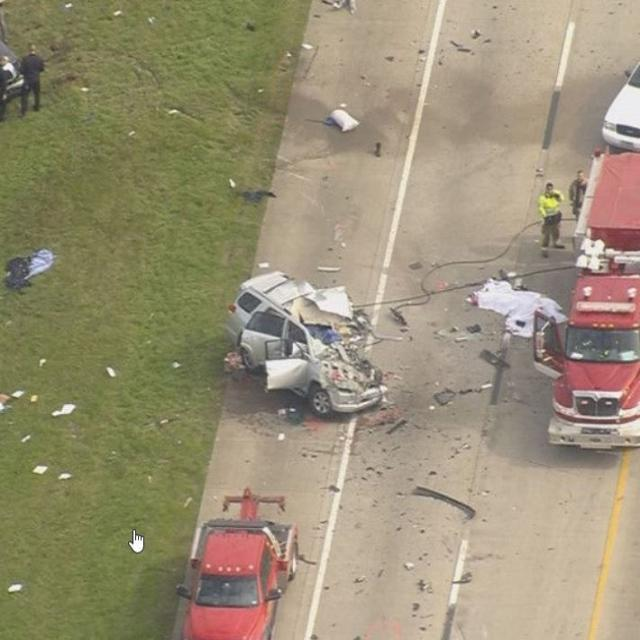traffic_incident: (225, 256, 398, 424)
